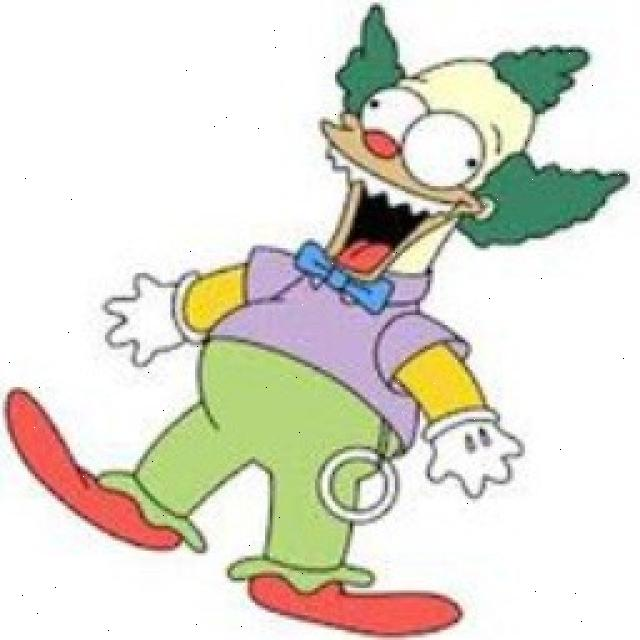Krusty the Clown: (305, 2, 620, 306)
